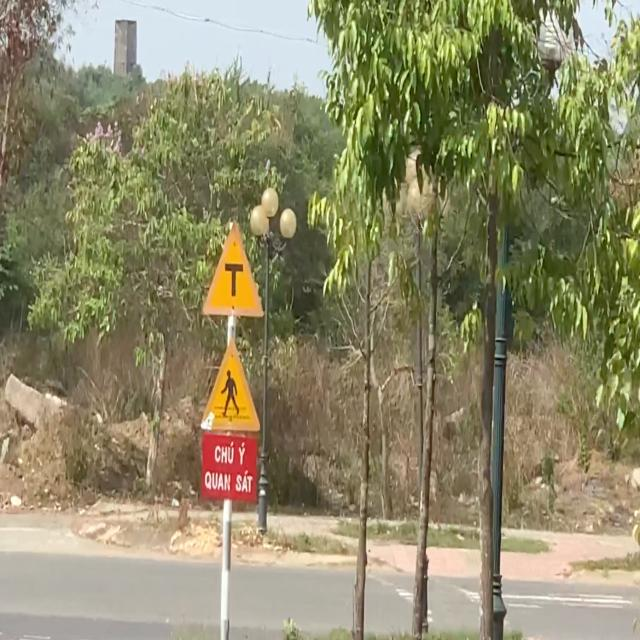Duong giao nhau: (196, 220, 267, 325)
Nguoi di bo cat ngang: (200, 327, 265, 433)
